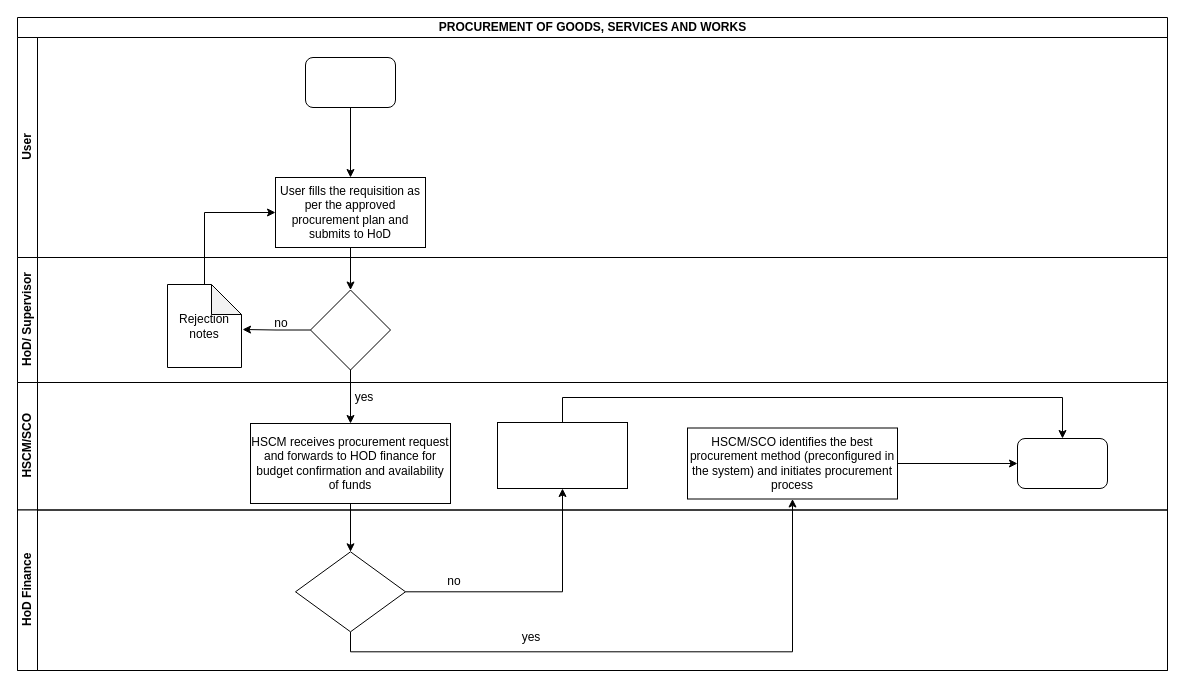
Image size: 1185x688. Some labels were removed from this diagram. Each missing label, with the centre of its shape:
Approves?: (x=350, y=329)
End: (x=1062, y=463)
Funds available?: (x=350, y=591)
HSCM informs user of unavailability of funds: (x=562, y=455)
Start: (x=350, y=82)
